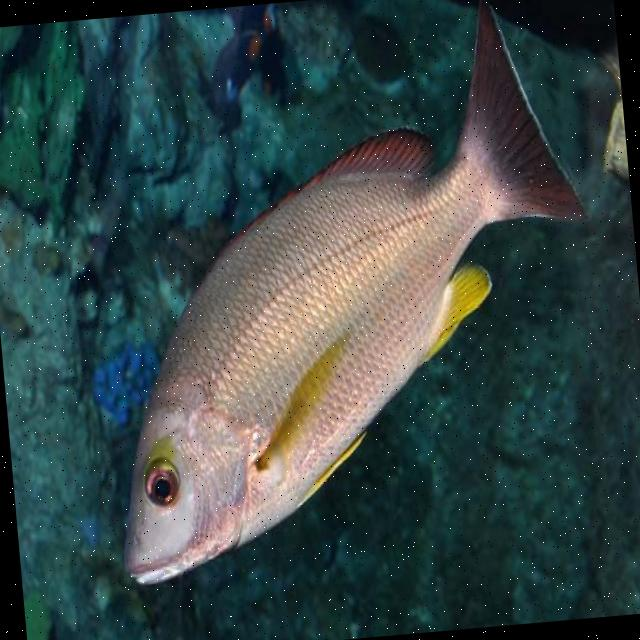ikan: (75, 0, 617, 587)
